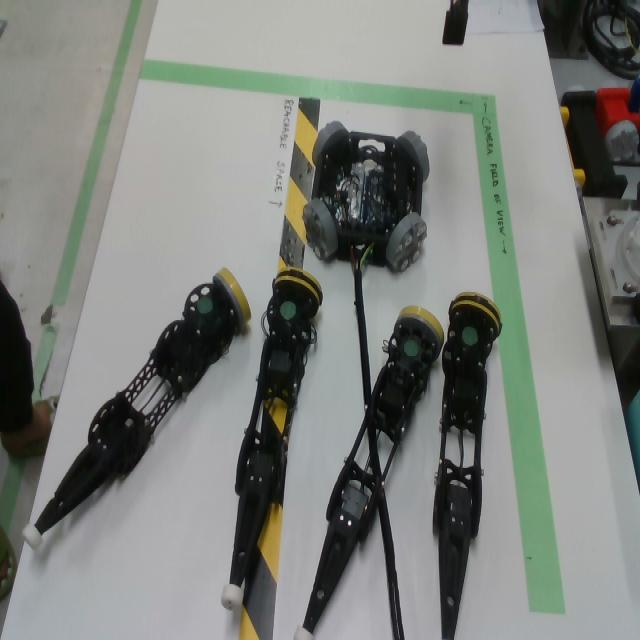body: (311, 132, 422, 267)
body_connector: (386, 212, 428, 273), (302, 199, 338, 260), (396, 131, 430, 183), (312, 121, 349, 167)
leg: (22, 268, 251, 549), (293, 305, 443, 640), (220, 265, 323, 612), (432, 291, 502, 640)
leg_connector: (397, 305, 445, 361), (212, 267, 251, 335), (272, 268, 323, 319), (448, 292, 503, 339)
leg_marker: (280, 301, 297, 320), (197, 297, 213, 315), (462, 327, 478, 345), (404, 340, 419, 357)
